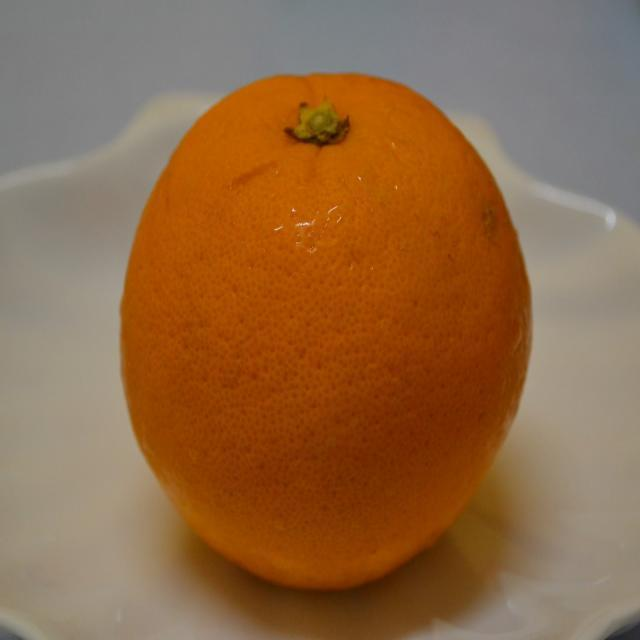Orange: (120, 72, 532, 598)
